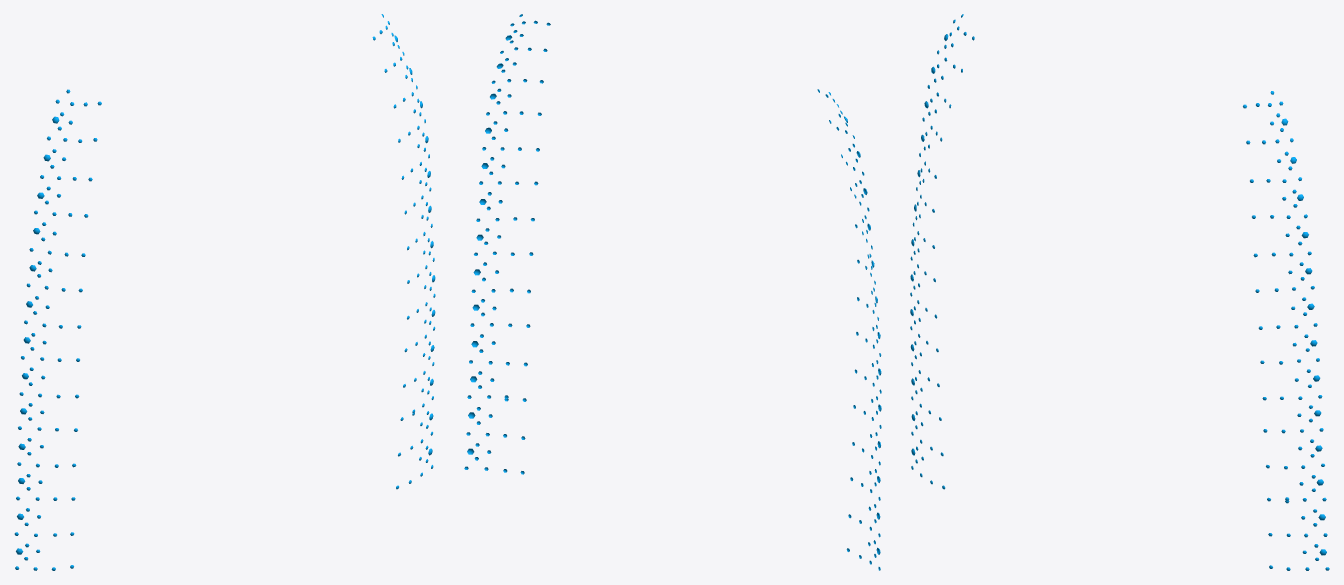
Rendered from crystals-front.glb.
3 views of the same model, side by side, from view 1: azimuth 30°, elevation 25°; view 2: azimuth 150°, elevation 25°; view 3: azimuth 330°, elevation 25° (orthographic).
Visible parts, largest first — view 1: crystals-front; view 2: crystals-front; view 3: crystals-front.
Boxes of the visible parts, bbox=[...] form: crystals-front: bbox=[14, 14, 435, 570]; crystals-front: bbox=[464, 14, 881, 570]; crystals-front: bbox=[910, 14, 1329, 570].
Bounding box in the file's own units: 1.75 × 1.88 × 0.1736.
